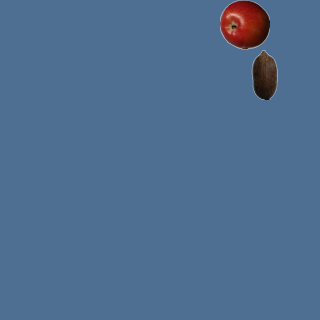Apple Braeburn: (219, 0, 269, 49)
Nut Pecan: (239, 49, 289, 99)
